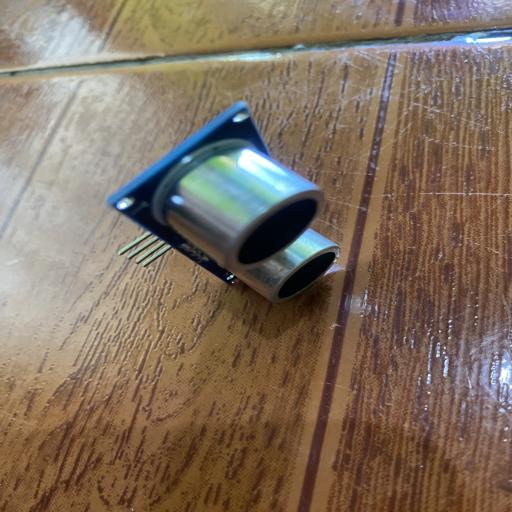Ultrasonic Sensor: (104, 99, 346, 304)
